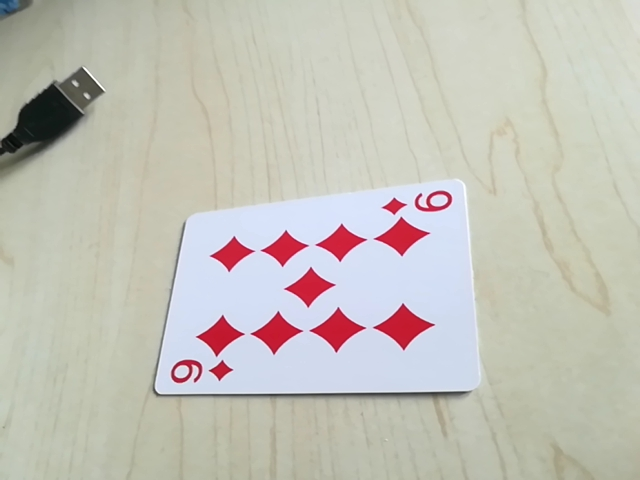fk 9: (163, 356, 238, 394), (380, 186, 458, 221)
